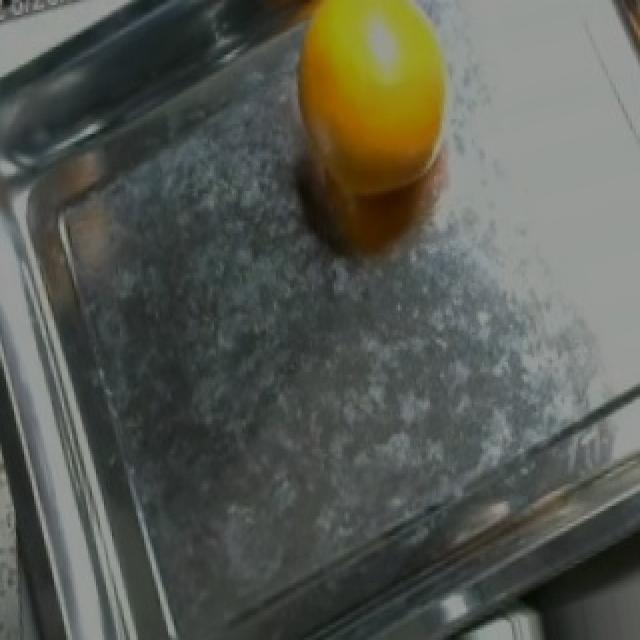Fruit: (266, 0, 478, 223)
